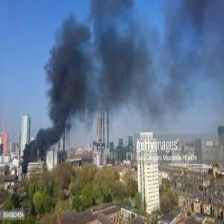smoke: (99, 6, 211, 97), (25, 29, 92, 166)
